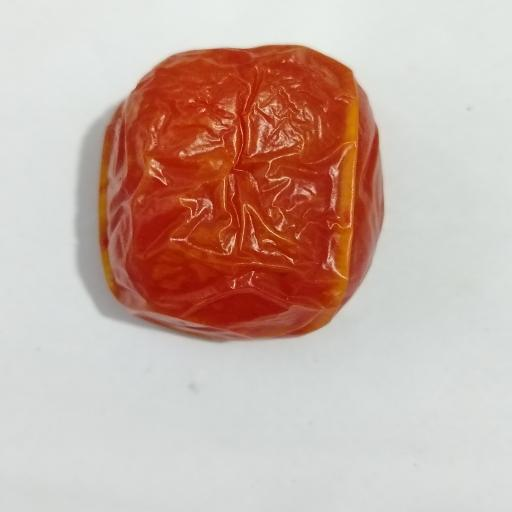spoiled: (99, 45, 383, 339)
